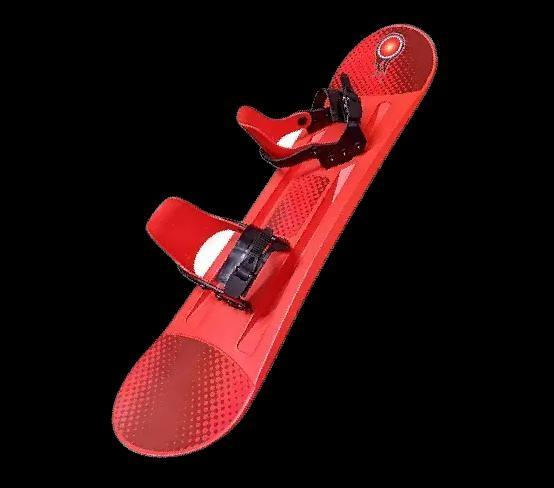Snowboard: (59, 22, 441, 452)
